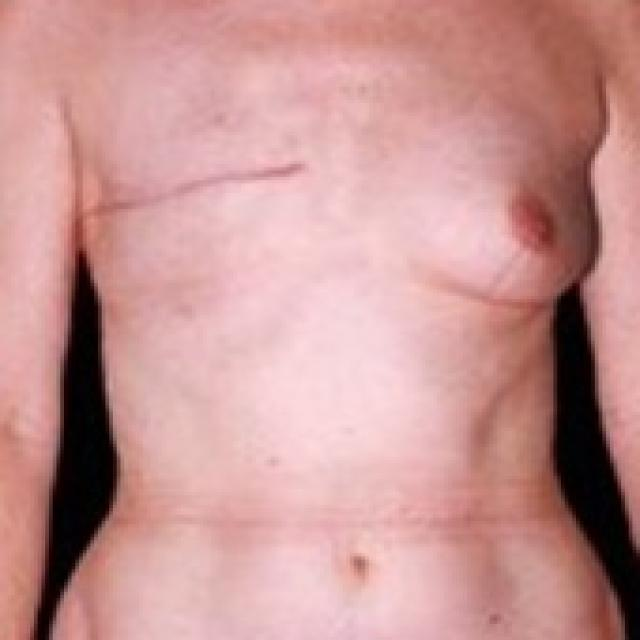Seno herido: (64, 113, 339, 329)
Seno ileso: (356, 113, 610, 334)
